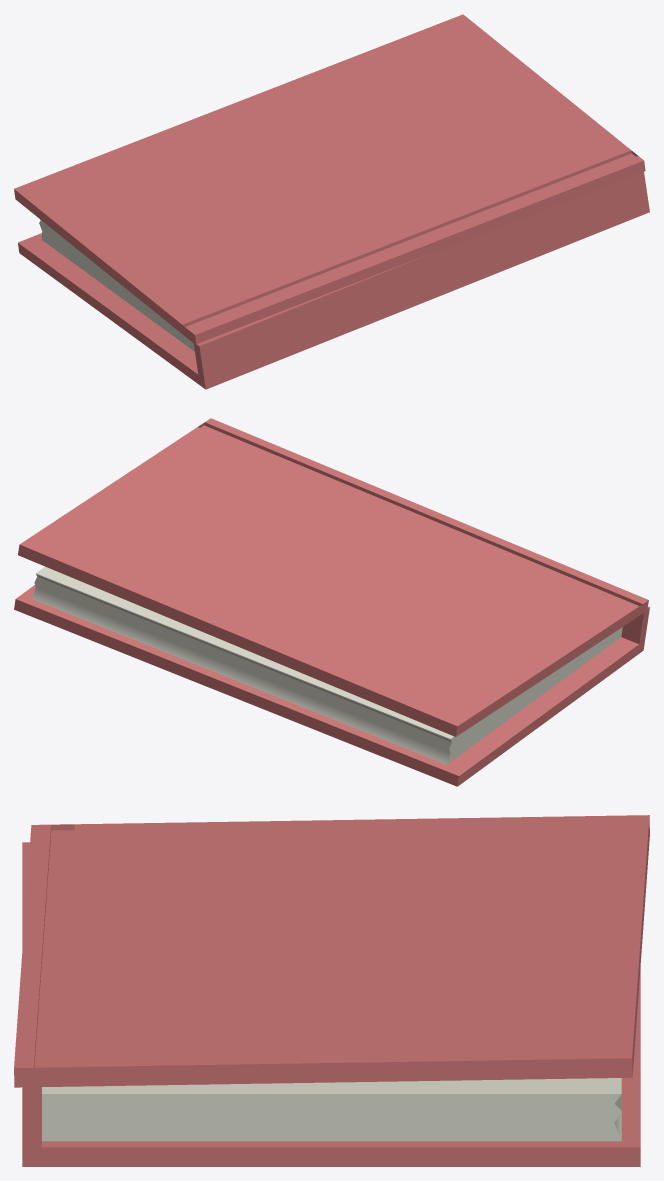
File: RedBook.fbx
3 views of the same model, one above another, from view 1: azimuth 30°, elevation 25°; view 2: azimuth 150°, elevation 25°; view 3: azimuth 270°, elevation 25° (orthographic). The views are drawn at different scales.
Parts seen in each view (by area): view 1: bookCover, bookMain; view 2: bookCover, bookMain; view 3: bookCover, bookMain.
Boxes of the visible parts, x1,y1,x2,y2 form: bookCover: (14, 14, 645, 345); bookMain: (18, 172, 649, 389); bookCover: (18, 418, 648, 736); bookMain: (14, 566, 649, 786); bookCover: (14, 815, 649, 1087); bookMain: (22, 842, 640, 1166).
Bounding box in the file's own units: 0.1554 × 0.0437 × 0.1141.
